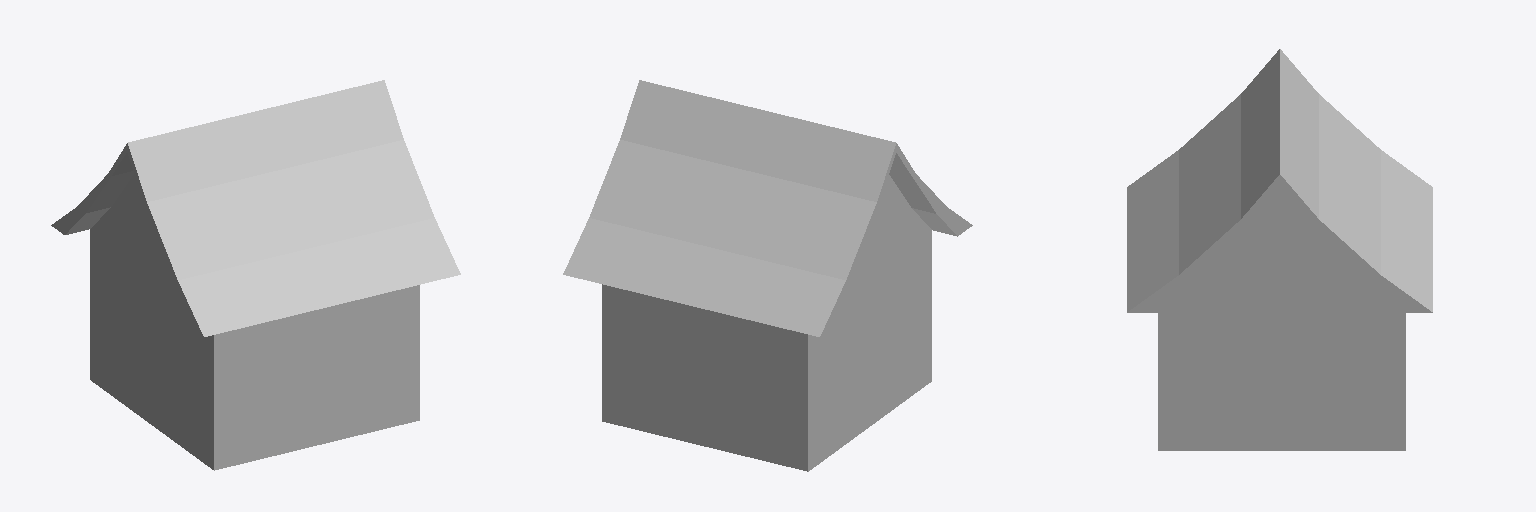
Rendered from RoofWindow.obj.
3 renders of one model, left to right at view 1: azimuth 30°, elevation 25°; view 2: azimuth 150°, elevation 25°; view 3: azimuth 270°, elevation 25°, orthographic.
Parts seen in each view (by area): view 1: RoofWindow; view 2: RoofWindow; view 3: RoofWindow.
Boxes of the visible parts, box(x1,y1,x2,y2) form: RoofWindow: box(51, 80, 460, 470); RoofWindow: box(563, 80, 972, 471); RoofWindow: box(1127, 49, 1432, 450).
Bounding box in the file's own units: 7.62 × 8.2 × 7.86.